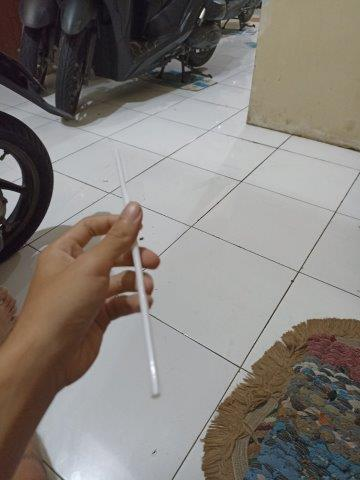sedotan: (113, 149, 161, 396)
